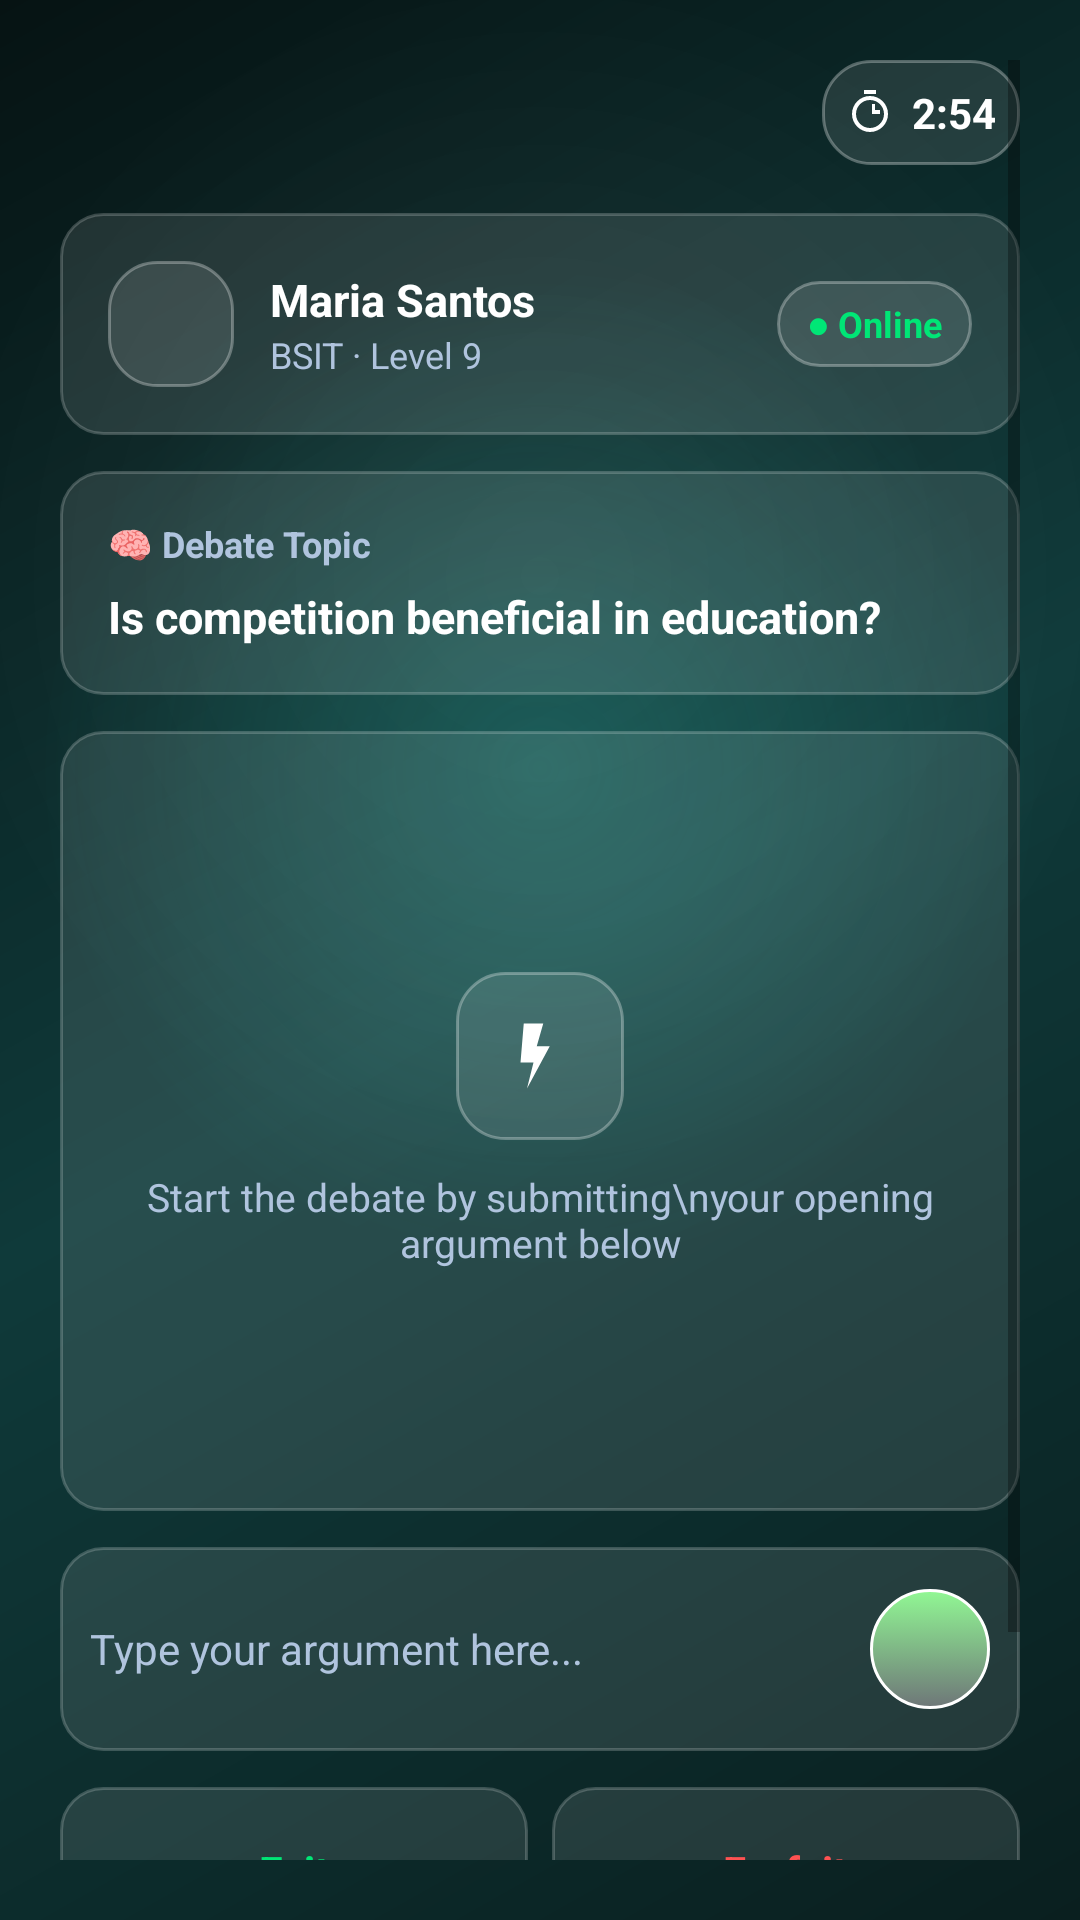

Locate icon controls on the screen. Image size 1080 x 1920, boxes as (x1, y1, x2, y2).
Timer: (852, 90, 888, 132)
